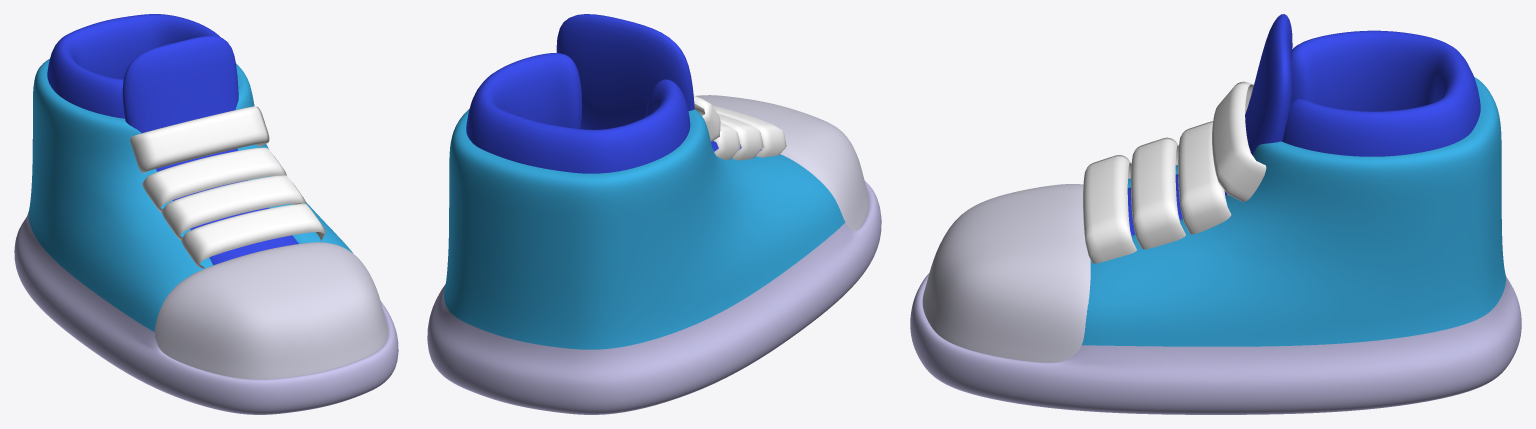
File: sneakers-1.glb
3 views of the same model, side by side, from view 1: azimuth 30°, elevation 25°; view 2: azimuth 150°, elevation 25°; view 3: azimuth 270°, elevation 25° (orthographic). The views are drawn at different scales.
Visible parts, largest first — view 1: Cube_6, Cube.003_5, Cube.001_3, Cube.002_4, NurbsPath.006_14, NurbsPath.007_15, NurbsPath.004_12, NurbsPath.005_13; view 2: Cube_6, Cube.002_4, Cube.001_3, Cube.003_5, NurbsPath.007_15, NurbsPath.004_12, NurbsPath.005_13, NurbsPath.006_14; view 3: Cube_6, Cube.003_5, Cube.002_4, Cube.001_3, NurbsPath.004_12, NurbsPath.007_15, NurbsPath.005_13, NurbsPath.006_14.
Boxes of the visible parts, <box> form: Cube_6: <box>14,59,398,414</box>; Cube.003_5: <box>155,242,387,379</box>; Cube.001_3: <box>122,35,298,265</box>; Cube.002_4: <box>47,14,220,118</box>; NurbsPath.006_14: <box>130,106,269,173</box>; NurbsPath.007_15: <box>181,203,325,268</box>; NurbsPath.004_12: <box>161,175,306,240</box>; NurbsPath.005_13: <box>142,147,286,212</box>; Cube_6: <box>427,109,881,414</box>; Cube.002_4: <box>466,53,690,173</box>; Cube.001_3: <box>556,14,761,151</box>; Cube.003_5: <box>696,95,868,230</box>; NurbsPath.007_15: <box>713,105,786,157</box>; NurbsPath.004_12: <box>717,113,763,160</box>; NurbsPath.005_13: <box>713,123,740,159</box>; NurbsPath.006_14: <box>693,95,720,141</box>; Cube_6: <box>910,77,1521,414</box>; Cube.003_5: <box>922,184,1090,362</box>; Cube.002_4: <box>1282,30,1480,156</box>; Cube.001_3: <box>1127,14,1292,235</box>; NurbsPath.004_12: <box>1131,137,1185,249</box>; NurbsPath.007_15: <box>1083,155,1136,263</box>; NurbsPath.005_13: <box>1178,121,1231,234</box>; NurbsPath.006_14: <box>1212,81,1266,201</box>.
Bounding box in the file's own units: 2.29 × 2.24 × 3.91.
